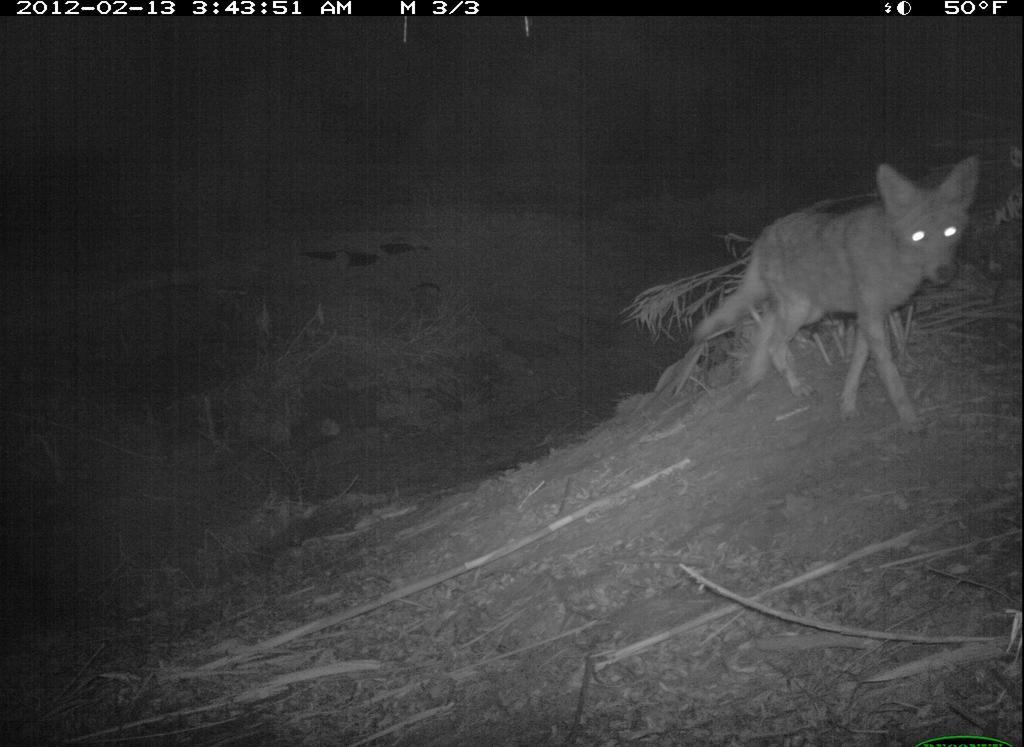coyote: (685, 148, 998, 434)
